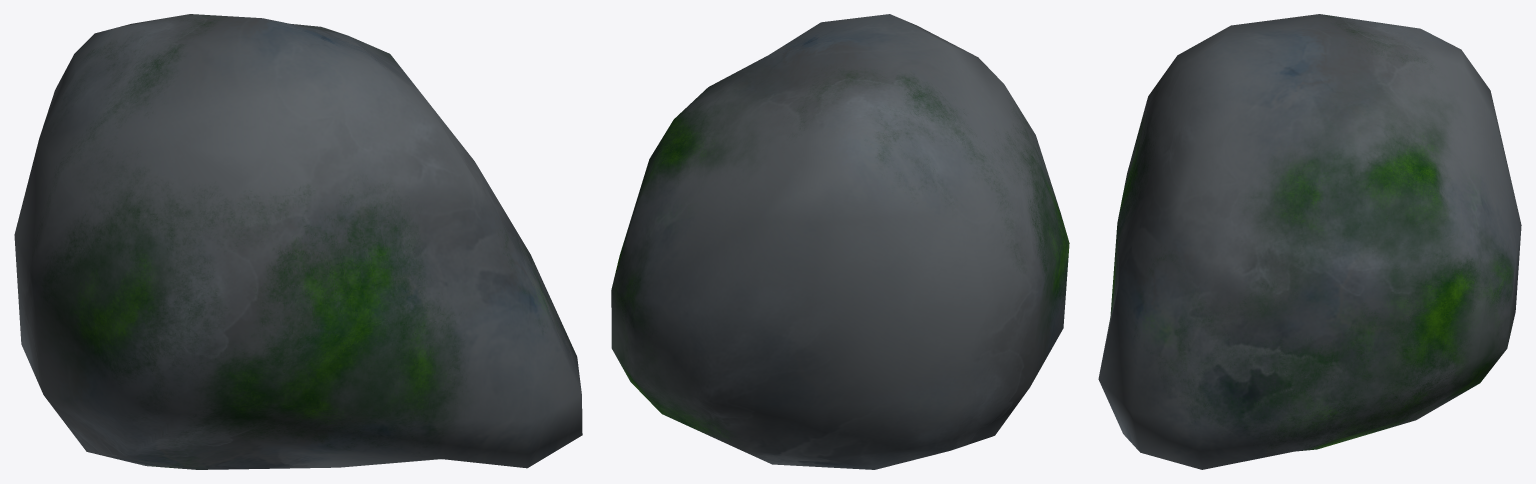
Rendered from rock4.glb.
The picture shows the model from 3 angles, left to right: view 1: azimuth 30°, elevation 25°; view 2: azimuth 150°, elevation 25°; view 3: azimuth 270°, elevation 25°; orthographic projection. The views are drawn at different scales.
Visible parts, largest first — view 1: Rock4_LP; view 2: Rock4_LP; view 3: Rock4_LP.
Part boxes in pixels (bbox=[...]): Rock4_LP: bbox=[14, 14, 582, 469]; Rock4_LP: bbox=[611, 14, 1069, 469]; Rock4_LP: bbox=[1098, 14, 1521, 469].
Bounding box in the file's own units: 1.79 × 1.58 × 1.65.
1 material, 1 textured.
